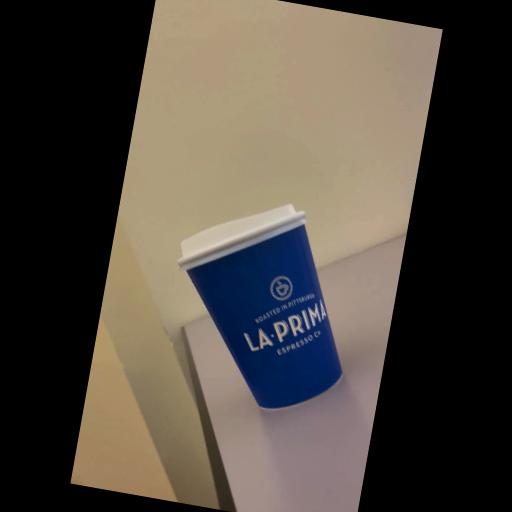lp_paper_cup: (156, 188, 370, 420)
